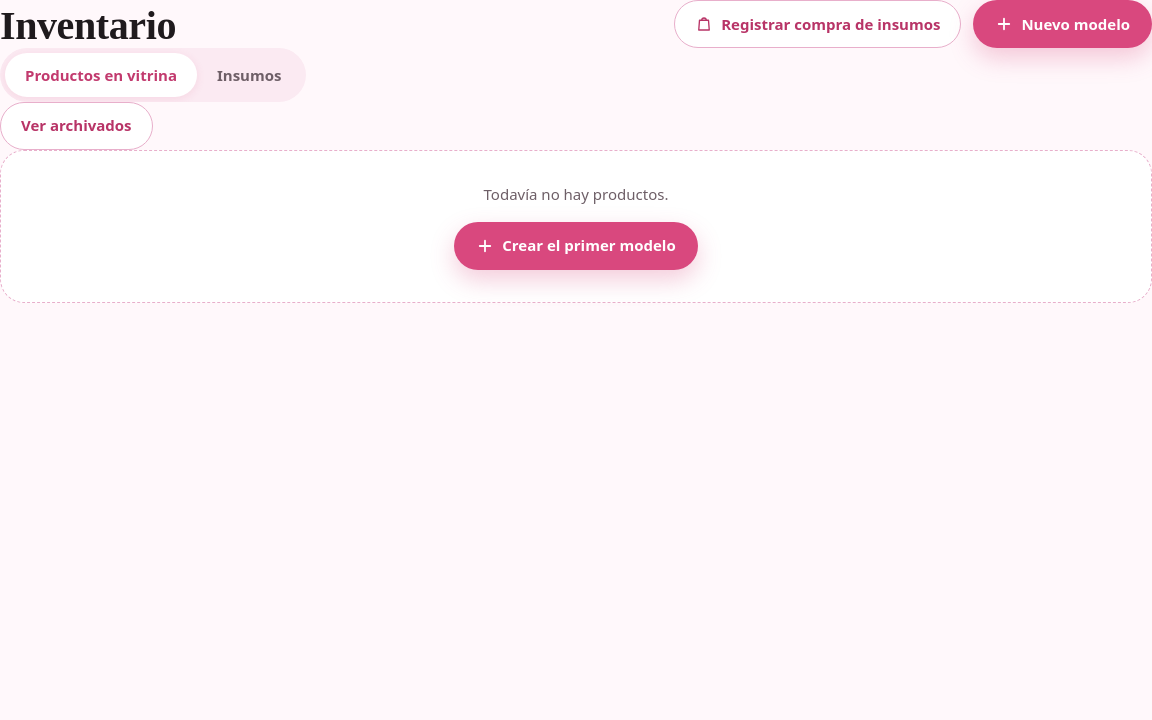
Test case: número mal escrito no se envía
Click the button "Nuevo modelo" at (1063, 24), box [973,0,1151,48]
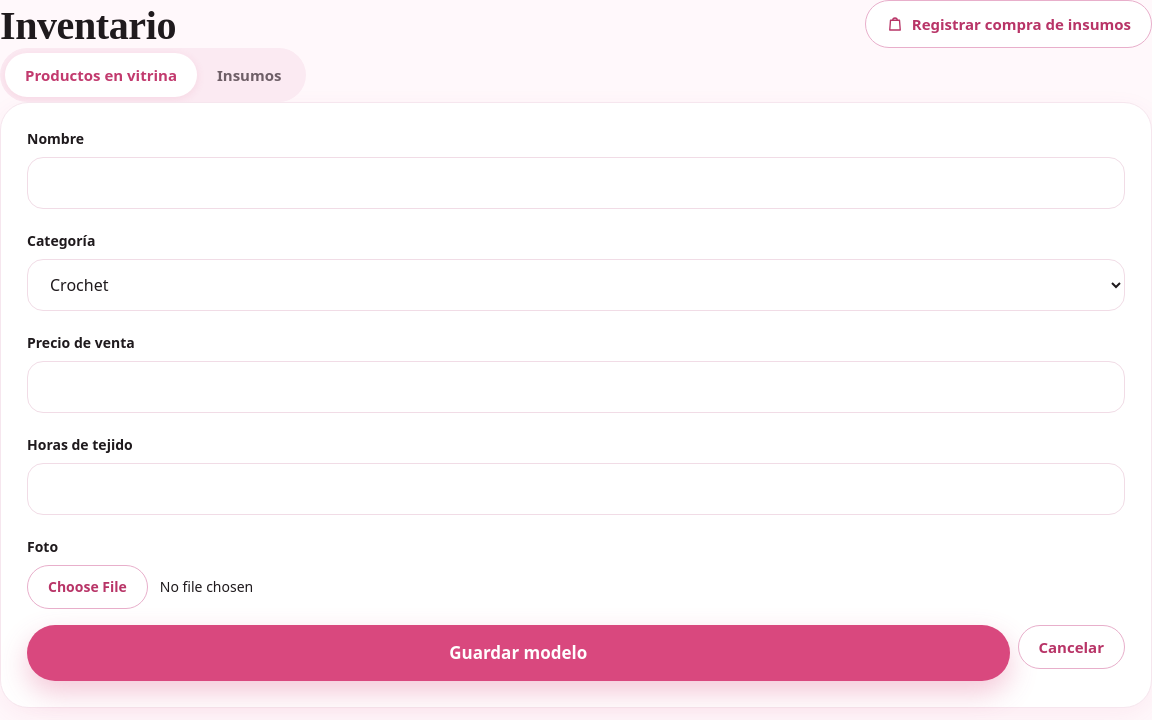
Type "Bolso" into the field labelled "Nombre" at (576, 183), box [27,157,1125,209]
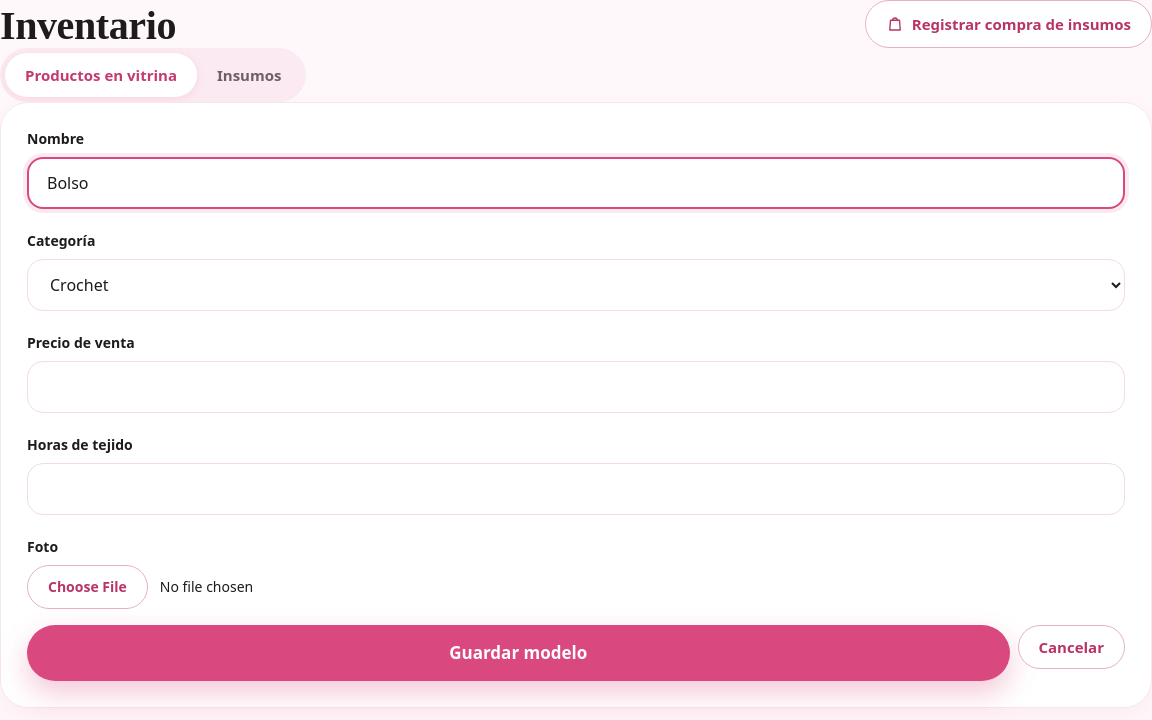
Type "mucho" into the field labelled "Precio de venta" at (576, 387), box [27,361,1125,413]
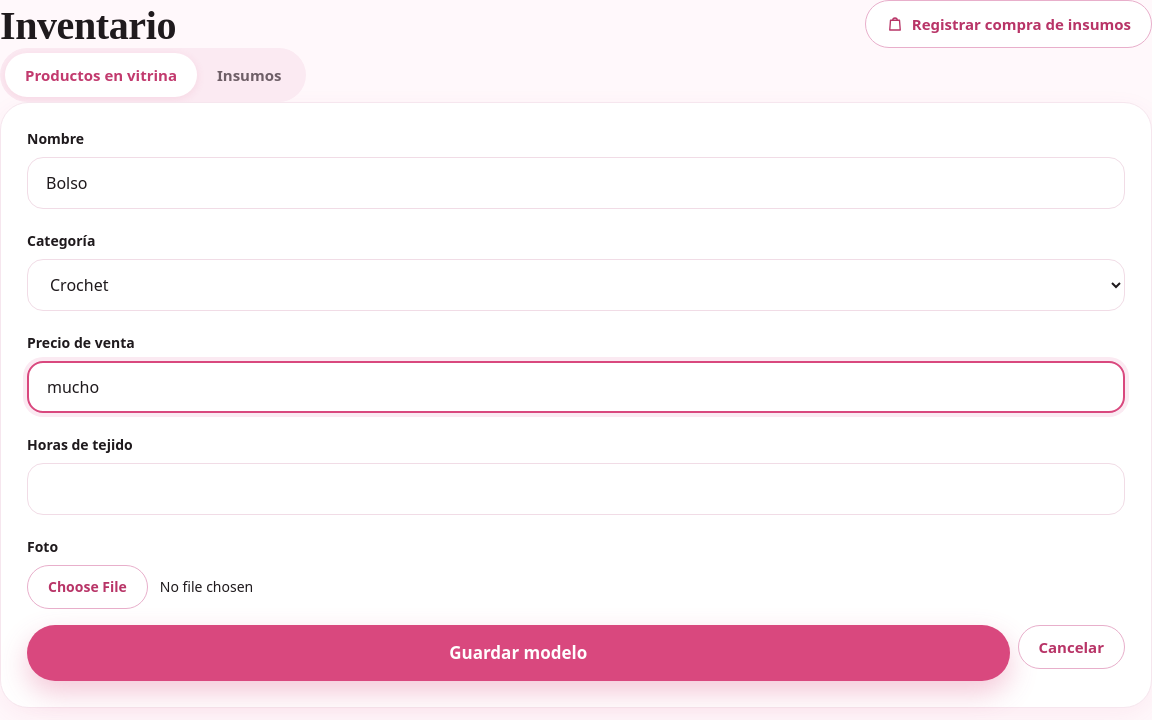
Click the button "Guardar modelo" at (518, 653), box [27,625,1010,681]
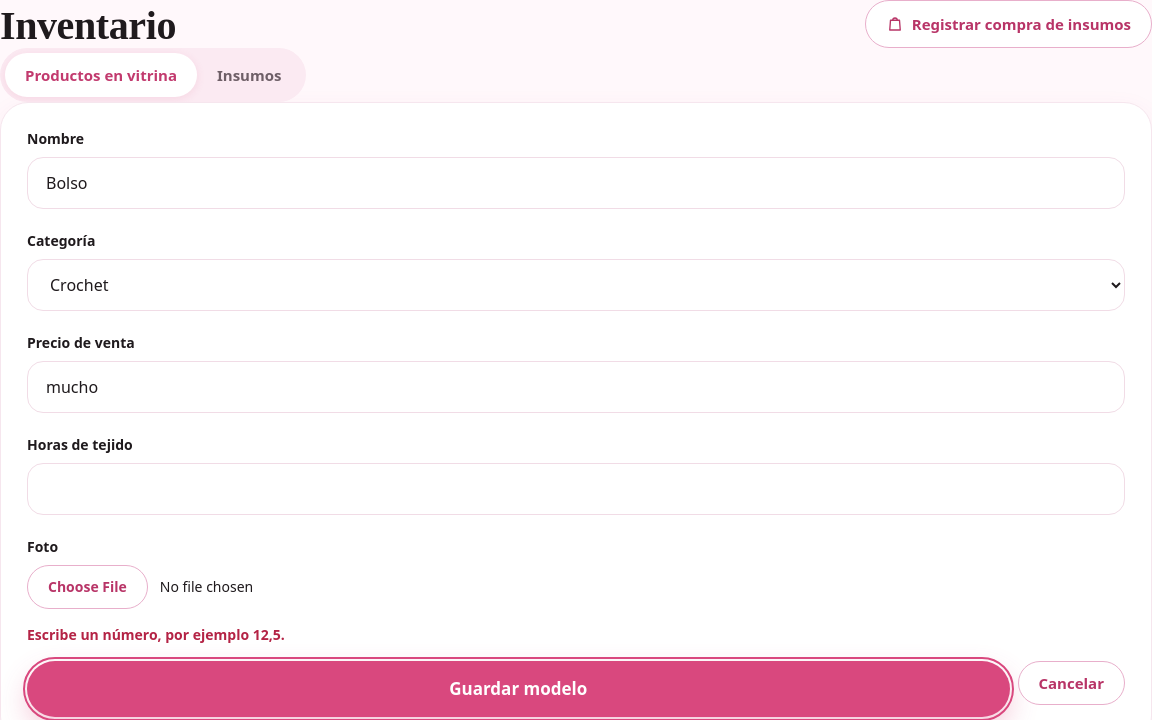
Now the text "Escribe un número, por ejemplo 12,5." is shown, box [27,625,285,644]
